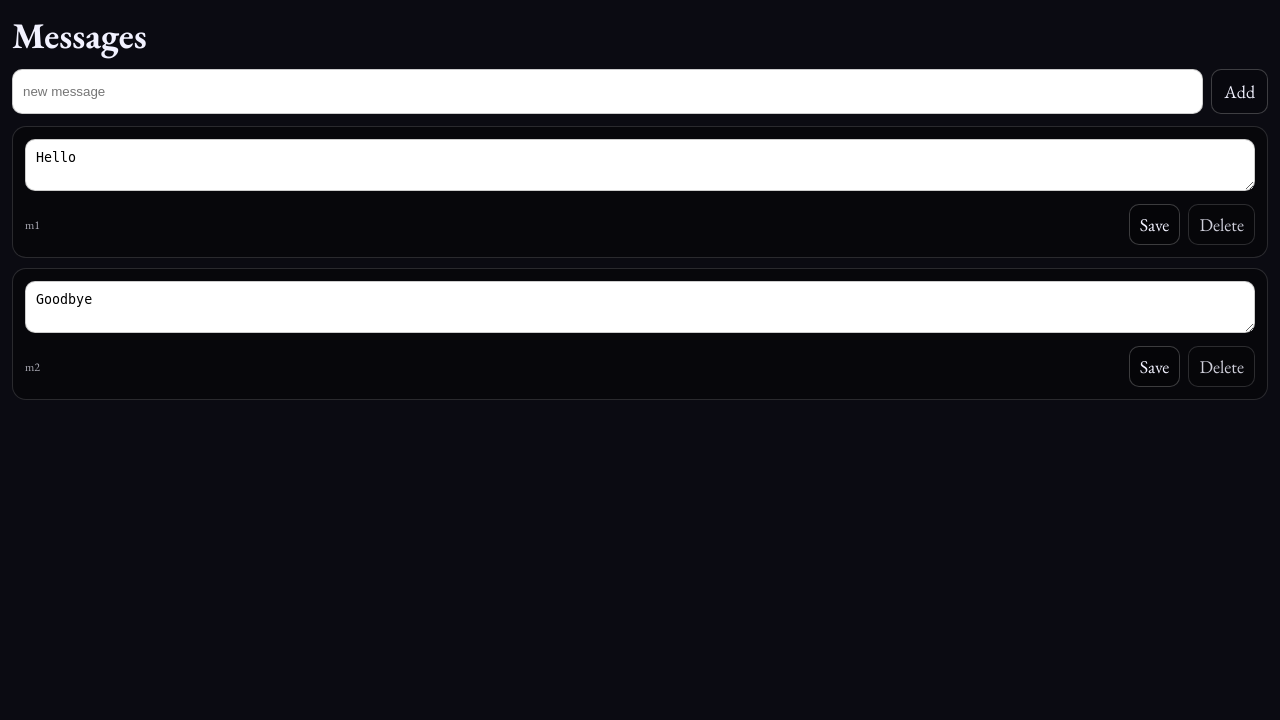
Scenario: OfficeMessages › a failed add shows an error
This screenshot has width=1280, height=720.
Check: the 1st text box showing "Hello" is shown, box [25,139,1255,191]
Type "Gold is up" into the field with placeholder "new message" at point(608, 92), box [12,69,1203,114]
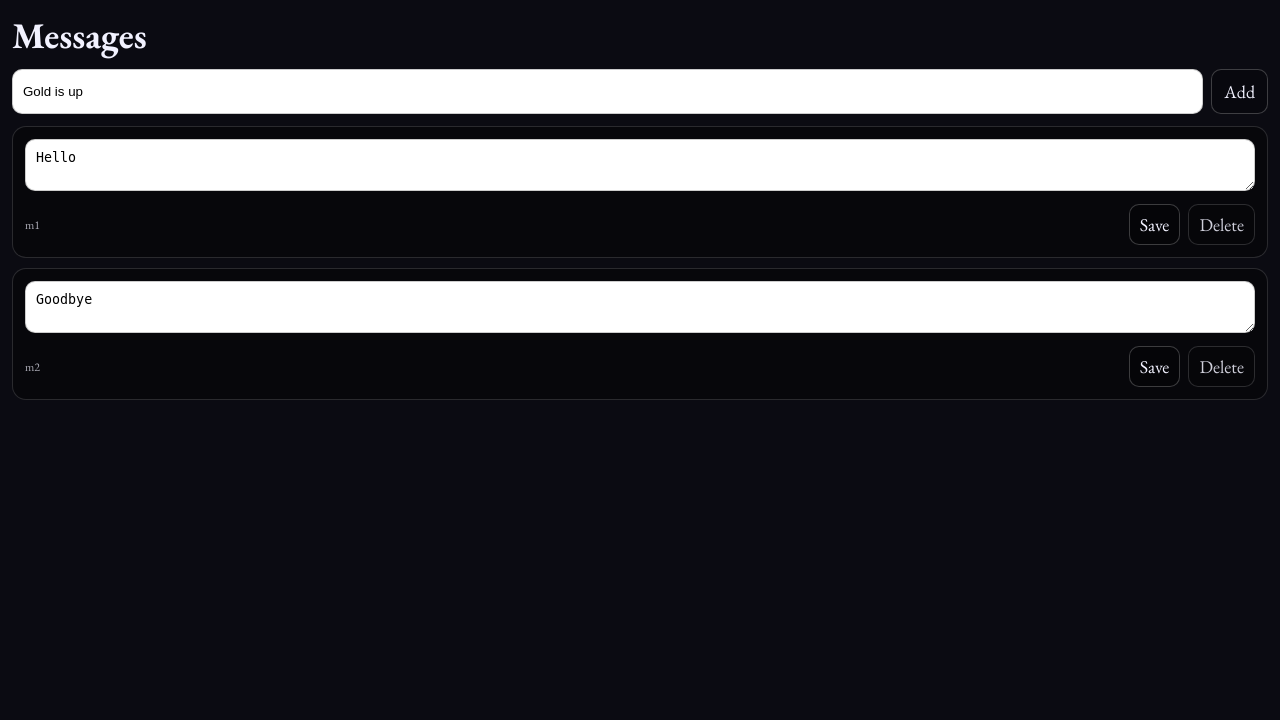
Click the button "Add" at point(1240, 92), box [1211,69,1268,114]
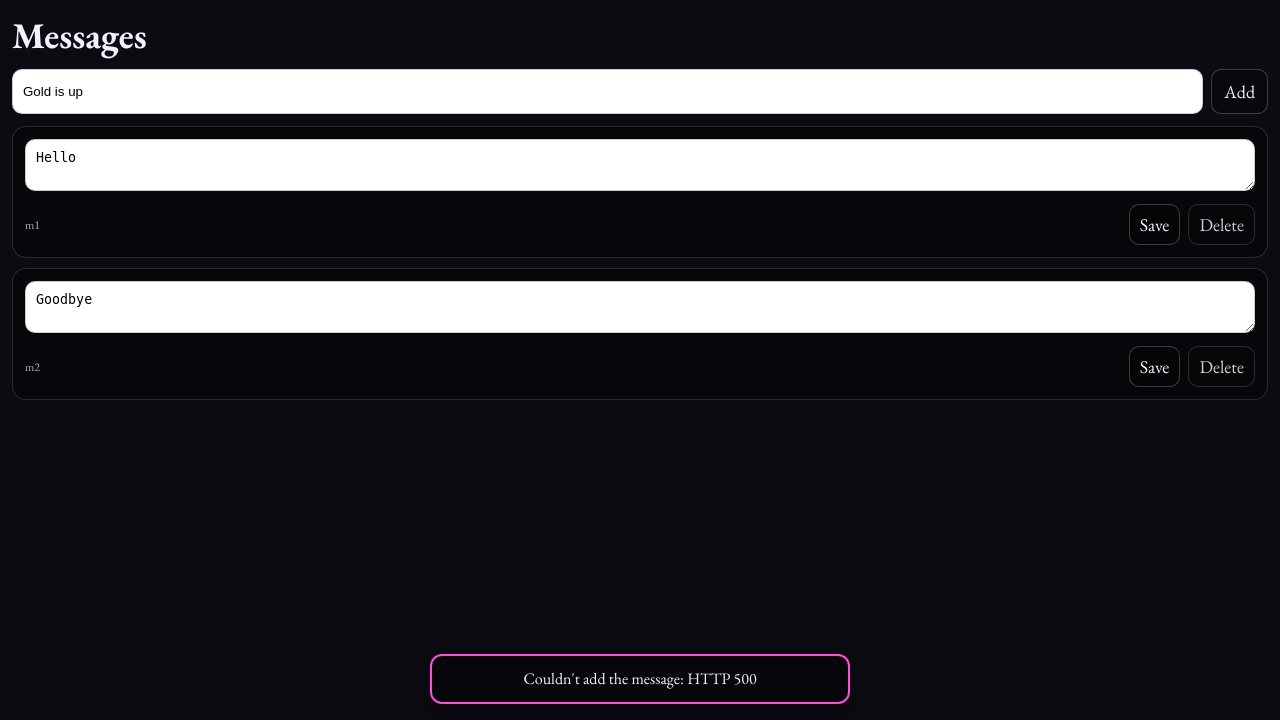
Check: the text "Couldn't add the message: HTTP 500" is shown, box [430,654,850,704]
